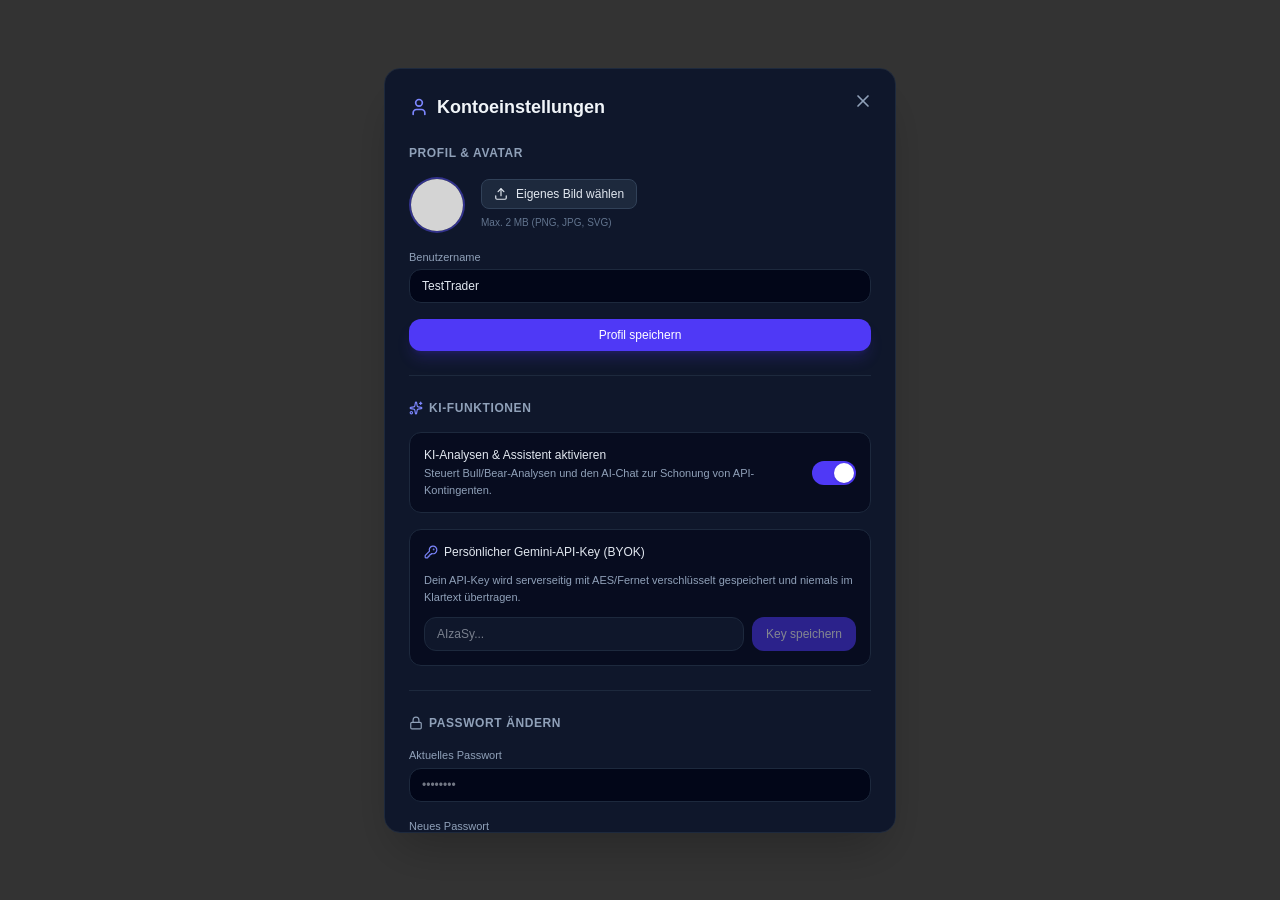
SettingsModal Component (AI Toggle & BYOK) › speichert einen neuen Gemini API-Key, zeigt das maskierte Badge und leert das Input-Feld
Type "AIzaSyValidTestKey1234569876" into the password field named "Gemini API-Key" at (584, 634), box [424,617,744,651]
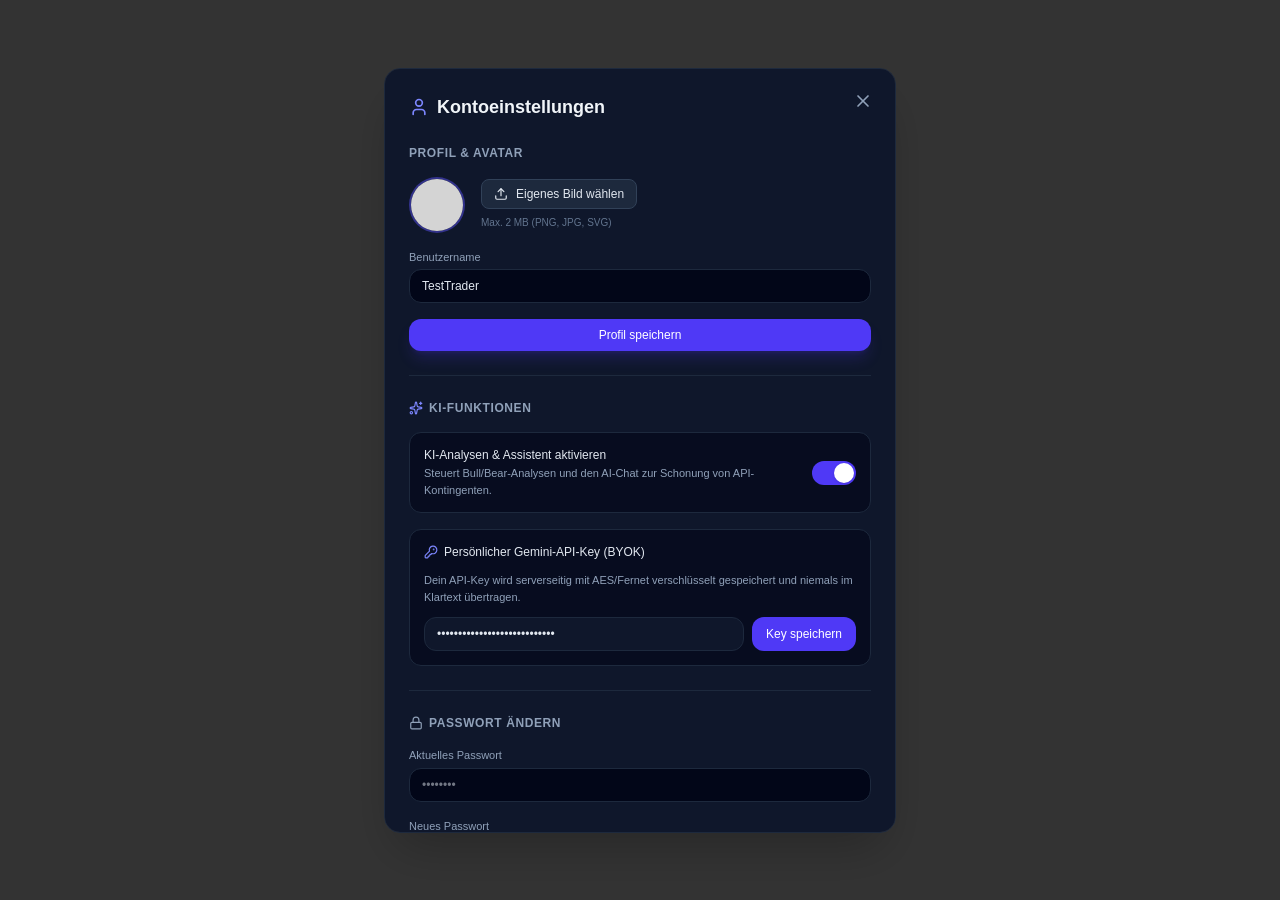
Click the button "Key speichern" at (804, 634), box [752,617,856,651]
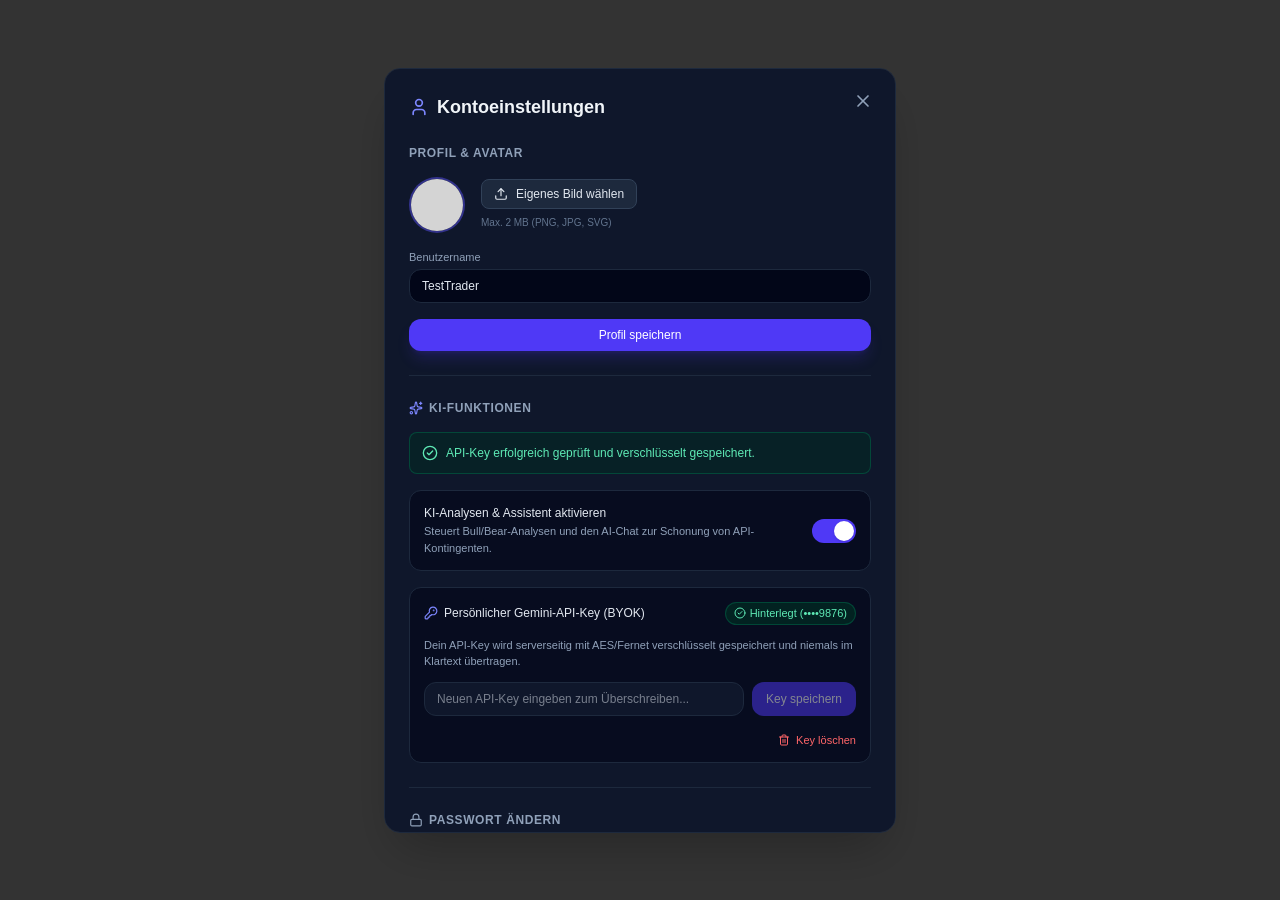
Now the password field named "Gemini API-Key" is empty, box [424,682,744,716]
Now the text "Hinterlegt (••••9876)" is shown, box [725,602,856,624]
Now the text "API-Key erfolgreich geprüft und verschlüsselt gespeichert." is shown, box [446,445,755,461]
